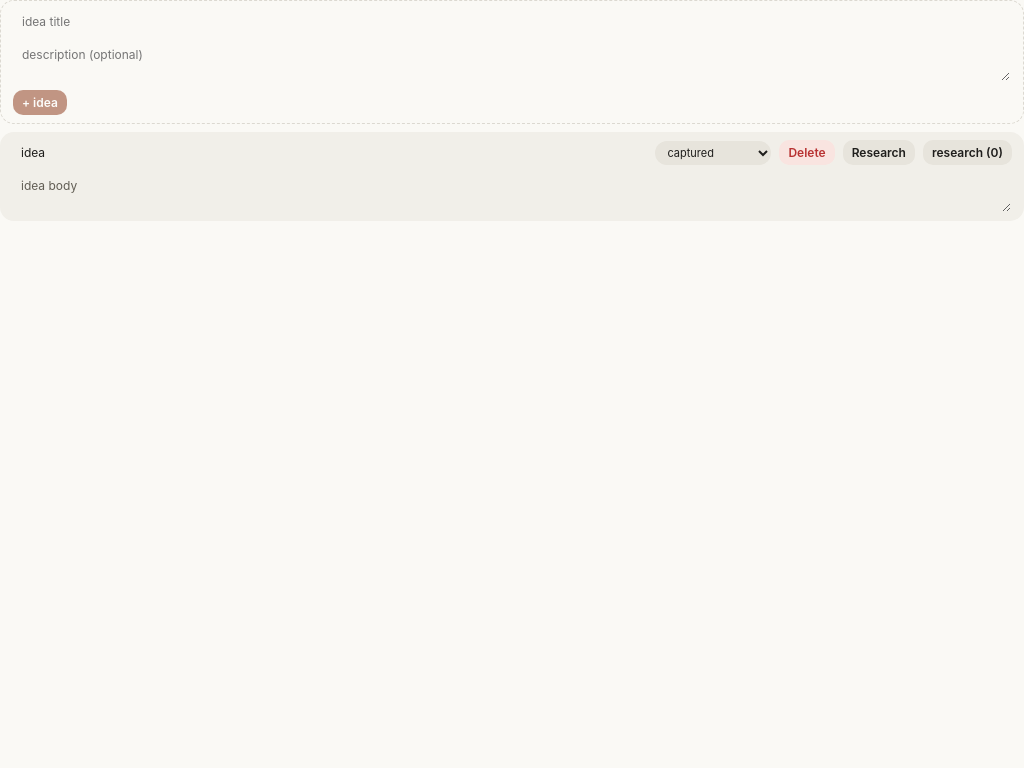
Test case: IdeasList › the "Research" button opens ResearchRunDialog for that idea
Click the button with test id "idea-research-i1": point(879, 152) [843,140,915,165]
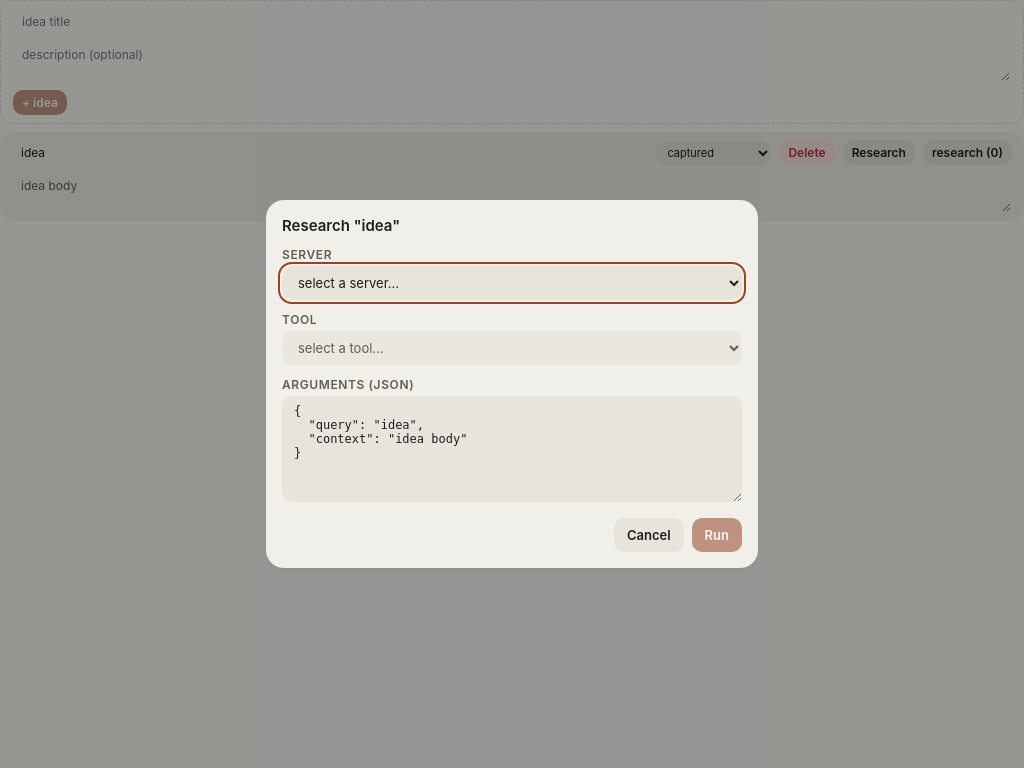
Now the dialog with test id "research-run-dialog" is shown, box [266,200,758,568]
